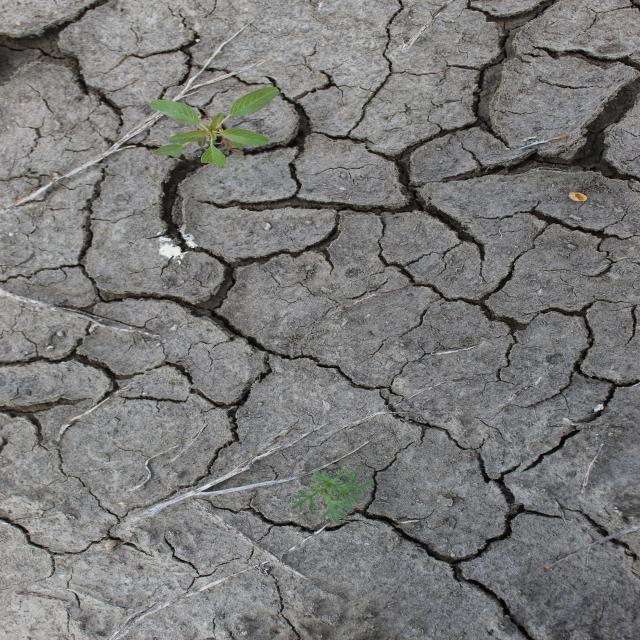Ragweed: (288, 466, 376, 526)
Waterhemp: (149, 86, 282, 169)
